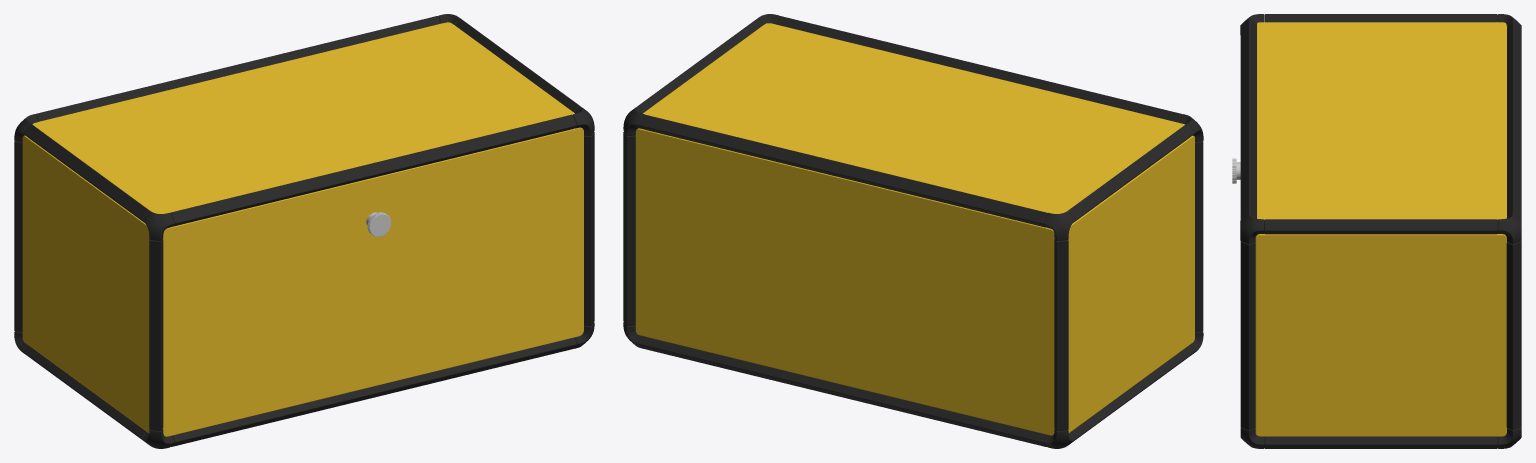
The picture shows the model from 3 angles, left to right: view 1: azimuth 30°, elevation 25°; view 2: azimuth 150°, elevation 25°; view 3: azimuth 270°, elevation 25°; orthographic projection. The views are drawn at different scales.
Parts seen in each view (by area): view 1: 729x374x329; view 2: 729x374x329; view 3: 729x374x329.
Part boxes in pixels (x1,y1,x2,y2): 729x374x329: (14,14,594,448); 729x374x329: (623,14,1203,448); 729x374x329: (1232,14,1521,448).
Size of the model in its own units: 0.8067 by 0.4066 by 0.4646.
